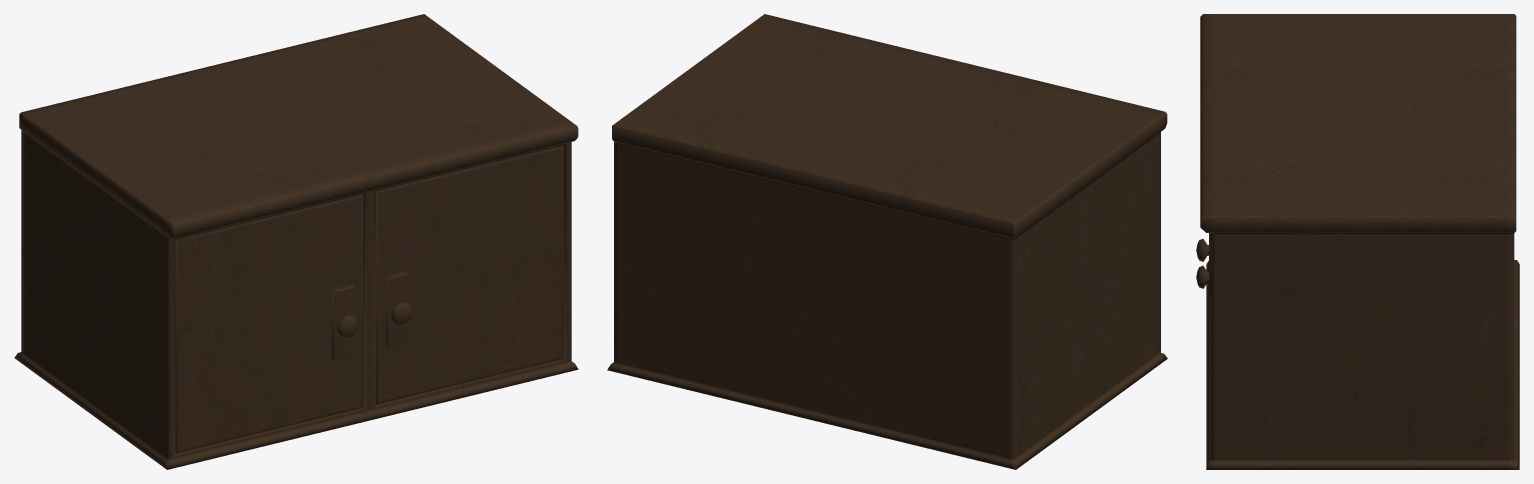
The model's file is floor_cabinet.glb.
3 views of the same model, side by side, from view 1: azimuth 30°, elevation 25°; view 2: azimuth 150°, elevation 25°; view 3: azimuth 270°, elevation 25° (orthographic). The views are drawn at different scales.
Parts seen in each view (by area): view 1: FloorCabinet; view 2: FloorCabinet; view 3: FloorCabinet.
Part boxes in pixels (x1,y1,x2,y2): FloorCabinet: (14, 14, 578, 469); FloorCabinet: (607, 14, 1167, 469); FloorCabinet: (1196, 14, 1519, 469).
Bounding box in the file's own units: 0.965 × 0.5523 × 0.6415.
2 materials, 2 textured.
